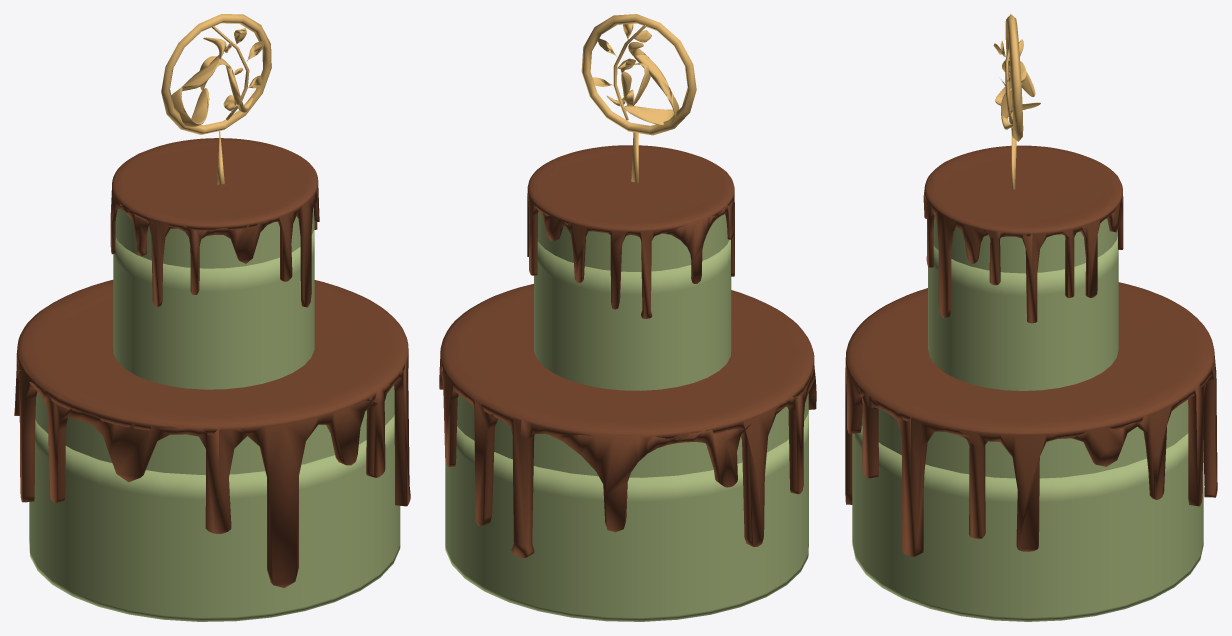
Rendered from 2-tier-pistage-ganache-ring.glb.
3 renders of one model, left to right at view 1: azimuth 30°, elevation 25°; view 2: azimuth 150°, elevation 25°; view 3: azimuth 270°, elevation 25°, orthographic. The views are drawn at different scales.
Parts seen in each view (by area): view 1: Cylinder.023, tHE ICING.004, Cylinder.013, tHE ICING.003, Cylinder.011; view 2: Cylinder.023, tHE ICING.004, Cylinder.013, tHE ICING.003, Cylinder.011; view 3: Cylinder.023, tHE ICING.004, Cylinder.013, tHE ICING.003, Cylinder.011.
Boxes of the visible parts, x1,y1,x2,y2 form: Cylinder.023: (29, 385, 400, 621); tHE ICING.004: (14, 280, 410, 587); Cylinder.013: (113, 207, 314, 389); tHE ICING.003: (110, 138, 319, 307); Cylinder.011: (161, 14, 271, 184); Cylinder.023: (445, 393, 808, 621); tHE ICING.004: (439, 284, 816, 557); Cylinder.013: (534, 211, 731, 390); tHE ICING.003: (527, 145, 734, 318); Cylinder.011: (581, 14, 696, 182); Cylinder.023: (852, 400, 1203, 621); tHE ICING.004: (845, 282, 1217, 557); Cylinder.013: (928, 216, 1118, 390); tHE ICING.003: (923, 145, 1123, 323); Cylinder.011: (993, 14, 1040, 189).
Size of the model in its own units: 3.53 by 5.36 by 3.46.
